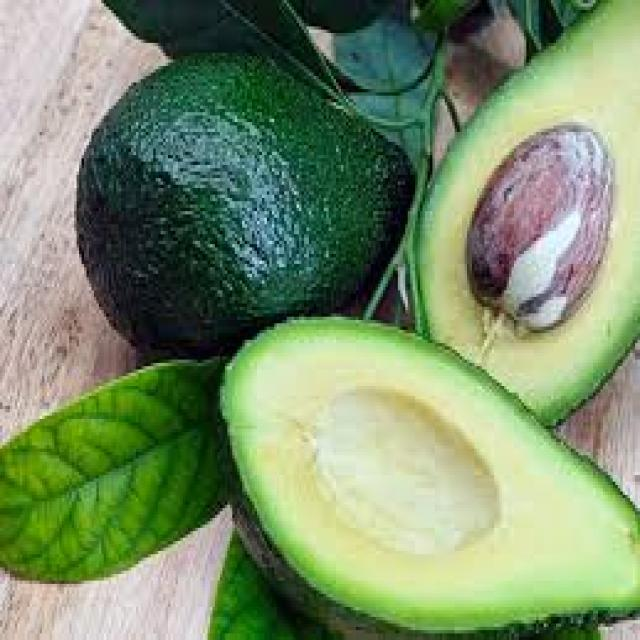avocado: (207, 290, 640, 639), (72, 41, 426, 352), (397, 0, 640, 435)
